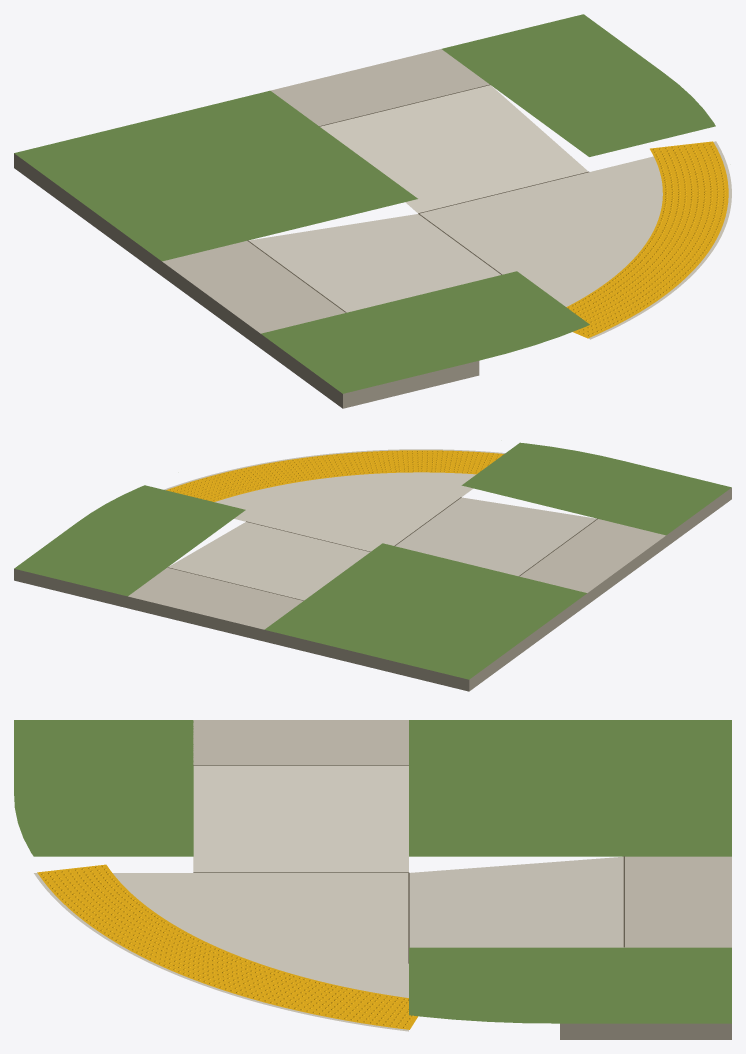
File: ramp-422c-square.glb
3 renders of one model, top to bottom at view 1: azimuth 30°, elevation 25°; view 2: azimuth 150°, elevation 25°; view 3: azimuth 270°, elevation 25°, orthographic. The views are drawn at different scales.
Parts seen in each view (by area): view 1: Seattle Type 422C: Parallel ramps at a square corner landing; view 2: Seattle Type 422C: Parallel ramps at a square corner landing; view 3: Seattle Type 422C: Parallel ramps at a square corner landing.
Boxes of the visible parts, x1=… form: Seattle Type 422C: Parallel ramps at a square corner landing: x1=14, y1=14, x2=731, y2=408; Seattle Type 422C: Parallel ramps at a square corner landing: x1=14, y1=442, x2=731, y2=691; Seattle Type 422C: Parallel ramps at a square corner landing: x1=14, y1=720, x2=731, y2=1039.
Bounding box in the file's own units: 6.1 × 0.1554 × 6.1.
